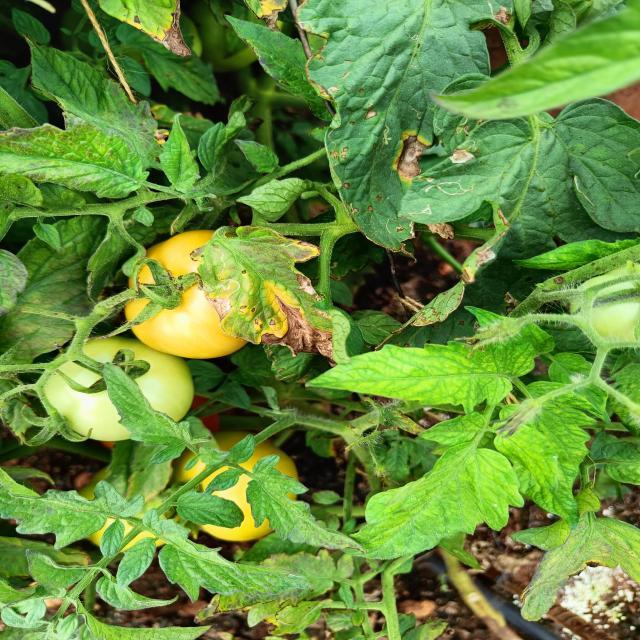Tomato mosaic virus leaf: (306, 51, 430, 265), (196, 217, 338, 368), (93, 0, 194, 60)
